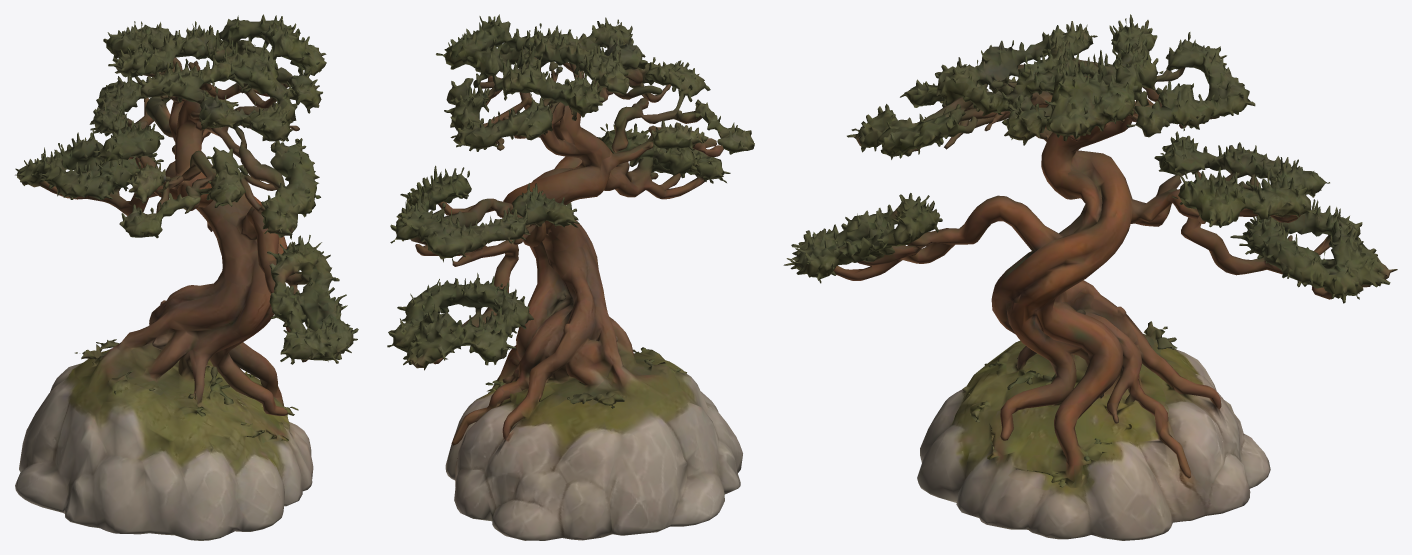
File: pine.glb
3 views of the same model, side by side, from view 1: azimuth 30°, elevation 25°; view 2: azimuth 150°, elevation 25°; view 3: azimuth 270°, elevation 25° (orthographic). The views are drawn at different scales.
Visible parts, largest first — view 1: tripo_node_3f7f827e-d4da-4d13-8db7-e9a58159a75c; view 2: tripo_node_3f7f827e-d4da-4d13-8db7-e9a58159a75c; view 3: tripo_node_3f7f827e-d4da-4d13-8db7-e9a58159a75c.
Boxes of the visible parts, x1,y1,x2,y2 form: tripo_node_3f7f827e-d4da-4d13-8db7-e9a58159a75c: (15,14,358,540); tripo_node_3f7f827e-d4da-4d13-8db7-e9a58159a75c: (387,14,754,540); tripo_node_3f7f827e-d4da-4d13-8db7-e9a58159a75c: (783,14,1397,540).
Bounding box in the file's own units: 0.5817 × 0.8428 × 1.
Materials: 1 (1 with a texture image).
